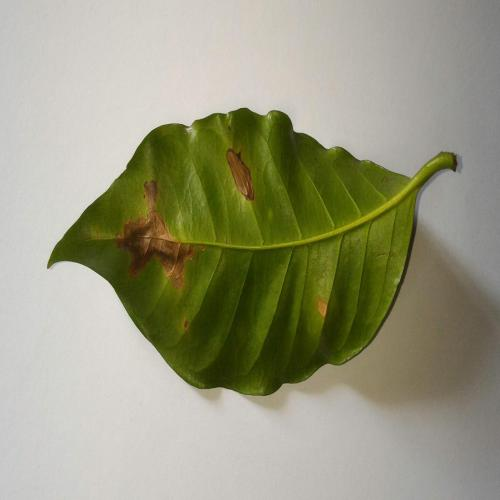leaf: (227, 147, 255, 201)
